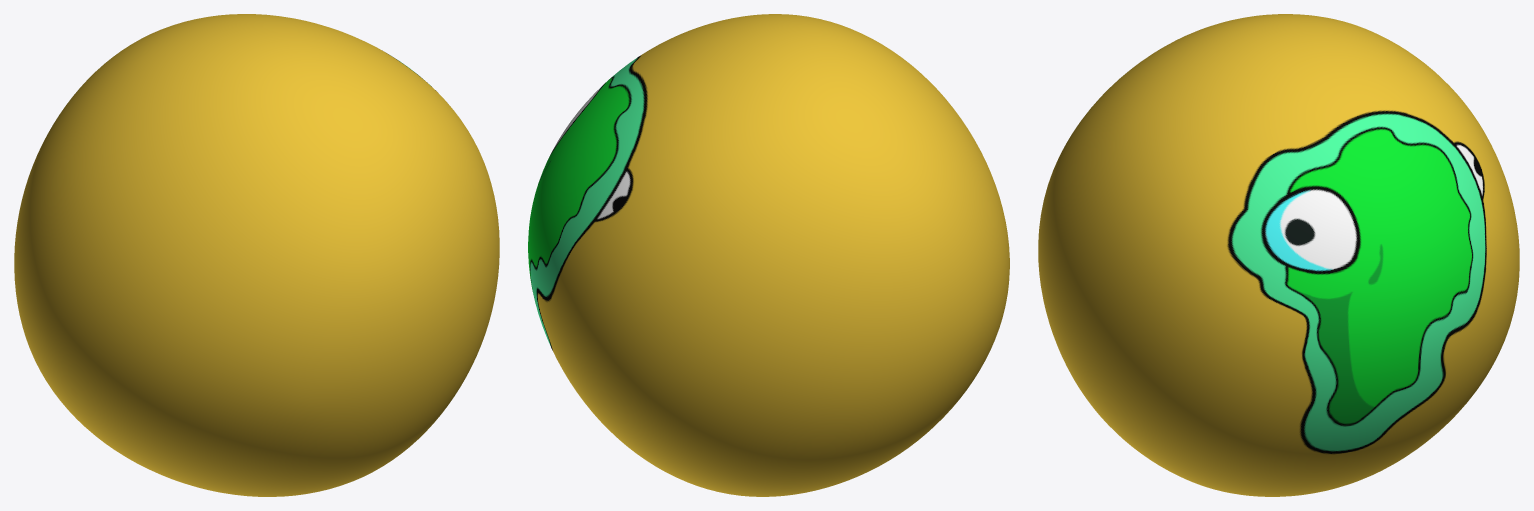
The model's file is goobers.gltf.
The picture shows the model from 3 angles, left to right: view 1: azimuth 30°, elevation 25°; view 2: azimuth 150°, elevation 25°; view 3: azimuth 270°, elevation 25°; orthographic projection.
Parts seen in each view (by area): view 1: Cube; view 2: Cube; view 3: Cube.
Part boxes in pixels (box(x1,y1,x2,y2)): Cube: box(14, 14, 499, 496); Cube: box(528, 14, 1009, 496); Cube: box(1038, 14, 1519, 496).
Bounding box in the file's own units: 1.73 × 1.72 × 1.72.
Materials: 1 (1 with a texture image).
